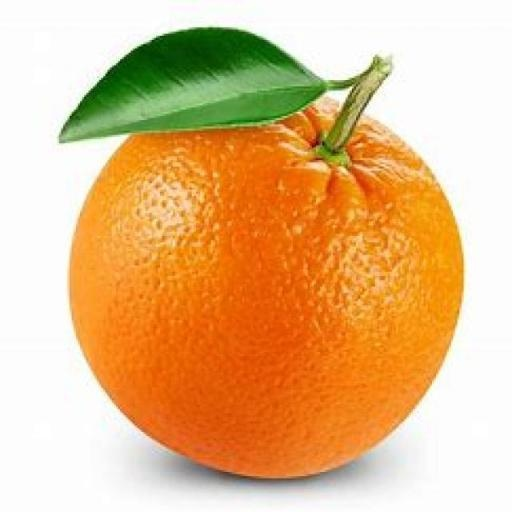fruit: (31, 151, 124, 512), (49, 69, 159, 200), (117, 29, 344, 80), (112, 23, 336, 61), (112, 18, 336, 49), (226, 47, 227, 50)
